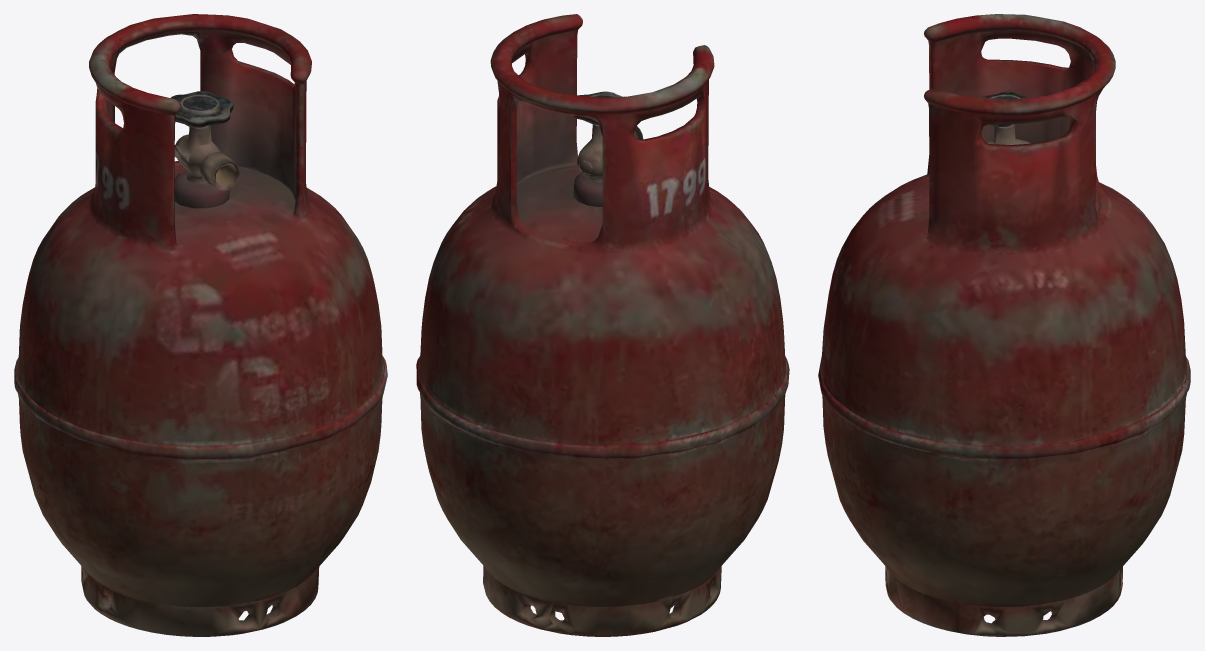
Rendered from prop-lpg.glb.
3 renders of one model, left to right at view 1: azimuth 30°, elevation 25°; view 2: azimuth 150°, elevation 25°; view 3: azimuth 270°, elevation 25°, orthographic.
Parts seen in each view (by area): view 1: prop-lpg; view 2: prop-lpg; view 3: prop-lpg.
Boxes of the visible parts, x1,y1,x2,y2 form: prop-lpg: [14, 14, 387, 636]; prop-lpg: [416, 14, 789, 636]; prop-lpg: [818, 14, 1190, 636].
Bounding box in the file's own units: 0.4099 × 0.642 × 0.4092.
1 material, 1 textured.
